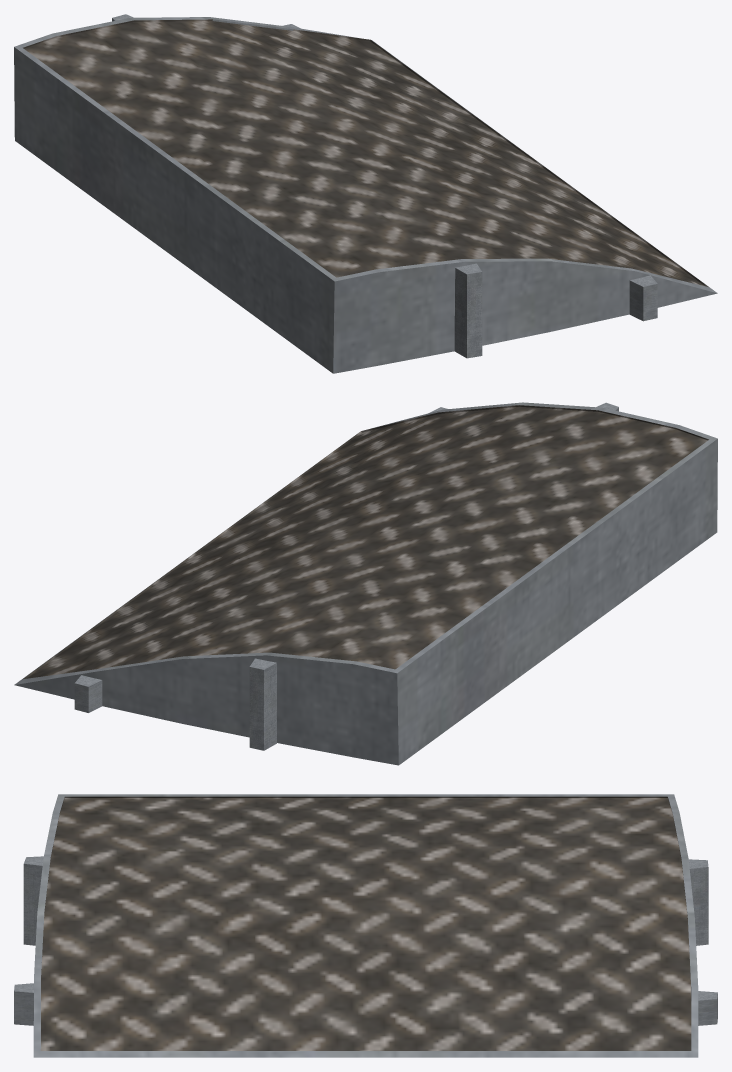
The model's file is Door Ramp.fbx.
The picture shows the model from 3 angles, top to bottom: view 1: azimuth 30°, elevation 25°; view 2: azimuth 150°, elevation 25°; view 3: azimuth 270°, elevation 25°; orthographic projection. The views are drawn at different scales.
Parts seen in each view (by area): view 1: Box008; view 2: Box008; view 3: Box008.
Boxes of the visible parts, x1,y1,x2,y2 form: Box008: (14,14,717,373); Box008: (14,402,717,765); Box008: (14,794,717,1057).
Size of the model in its own units: 87.36 by 21.21 by 149.
1 material, 1 textured.
